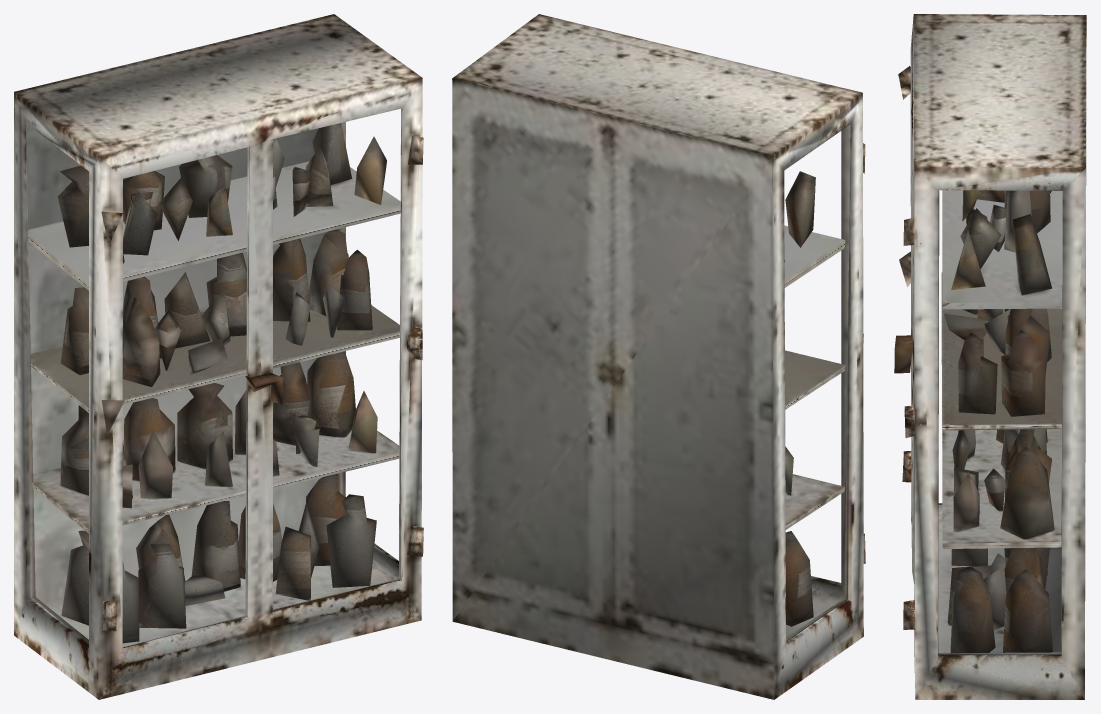
Rendered from cabinet.glb.
The picture shows the model from 3 angles, left to right: view 1: azimuth 30°, elevation 25°; view 2: azimuth 150°, elevation 25°; view 3: azimuth 270°, elevation 25°; orthographic projection. The views are drawn at different scales.
Bounding box in the file's own units: 0.6255 × 1 × 0.3275.
1 material, 1 textured.
